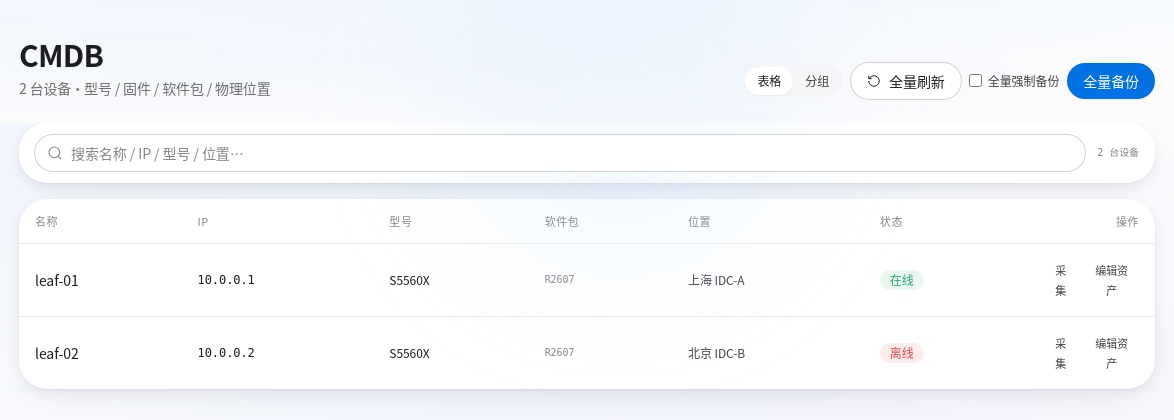
CMDB.vue 组件测试 › 4. 状态筛选：输入搜索关键词后 filtered 列表变化
The width and height of the screenshot is (1174, 420).
Type "leaf-01" into the field with placeholder "搜索名称 / IP / 型号 / 位置…" at (560, 152), box 35,134 -> 1085,170
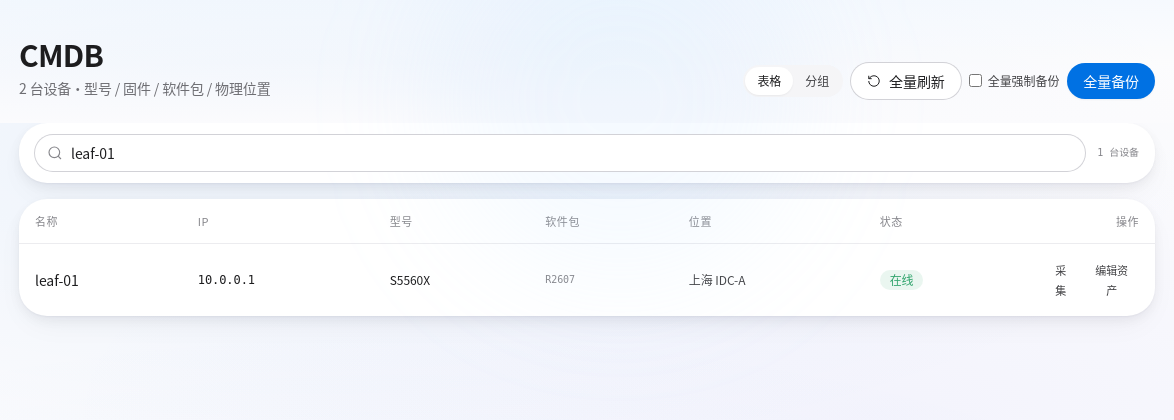
Expected: the text "leaf-01" is shown, 19,243 -> 182,316
Result: the text "leaf-02" is gone
